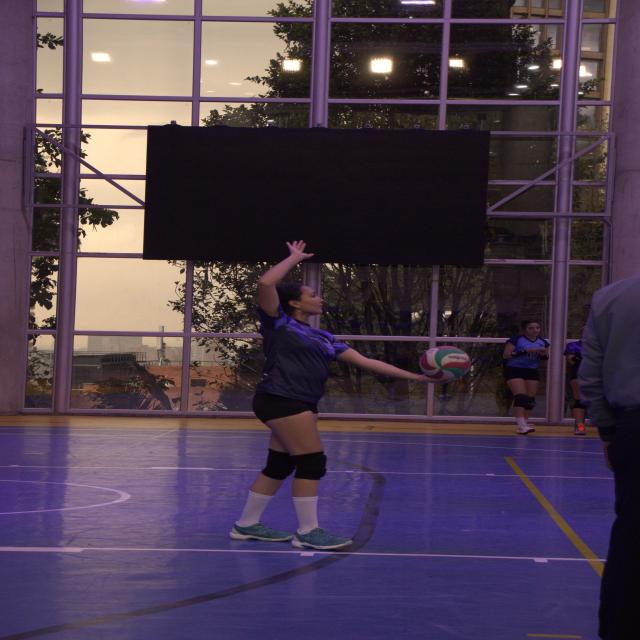volleyball: (421, 344, 471, 379)
